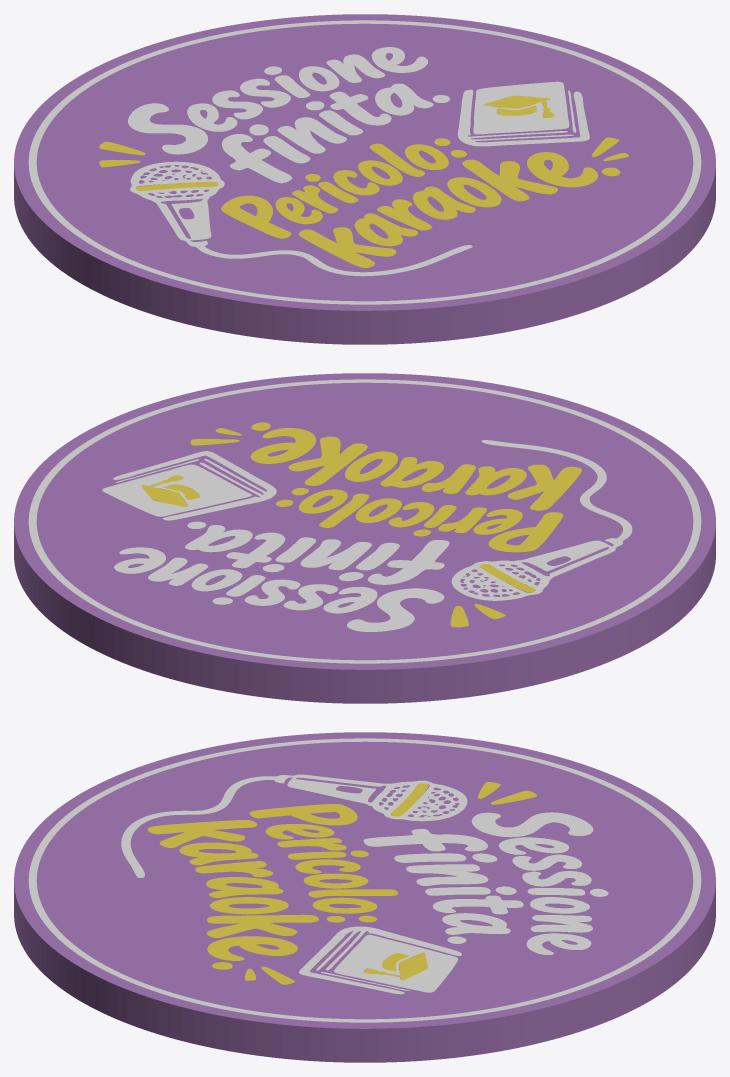
The model's file is sottobicchiere-sessione-fuori-pericolo.glb.
The picture shows the model from 3 angles, top to bottom: view 1: azimuth 30°, elevation 25°; view 2: azimuth 150°, elevation 25°; view 3: azimuth 270°, elevation 25°; orthographic projection.
Visible parts, largest first — view 1: coaster_base, coaster_ink, coaster_accent; view 2: coaster_base, coaster_ink, coaster_accent; view 3: coaster_base, coaster_ink, coaster_accent.
Boxes of the visible parts, x1,y1,x2,y2 form: coaster_base: [14, 14, 715, 344]; coaster_ink: [28, 20, 701, 304]; coaster_accent: [99, 95, 628, 267]; coaster_base: [14, 373, 715, 703]; coaster_ink: [28, 379, 701, 663]; coaster_accent: [141, 422, 581, 627]; coaster_base: [14, 732, 715, 1062]; coaster_ink: [28, 738, 701, 1022]; coaster_accent: [147, 782, 536, 984].
Bounding box in the file's own units: 0.075 × 0.004 × 0.075.
